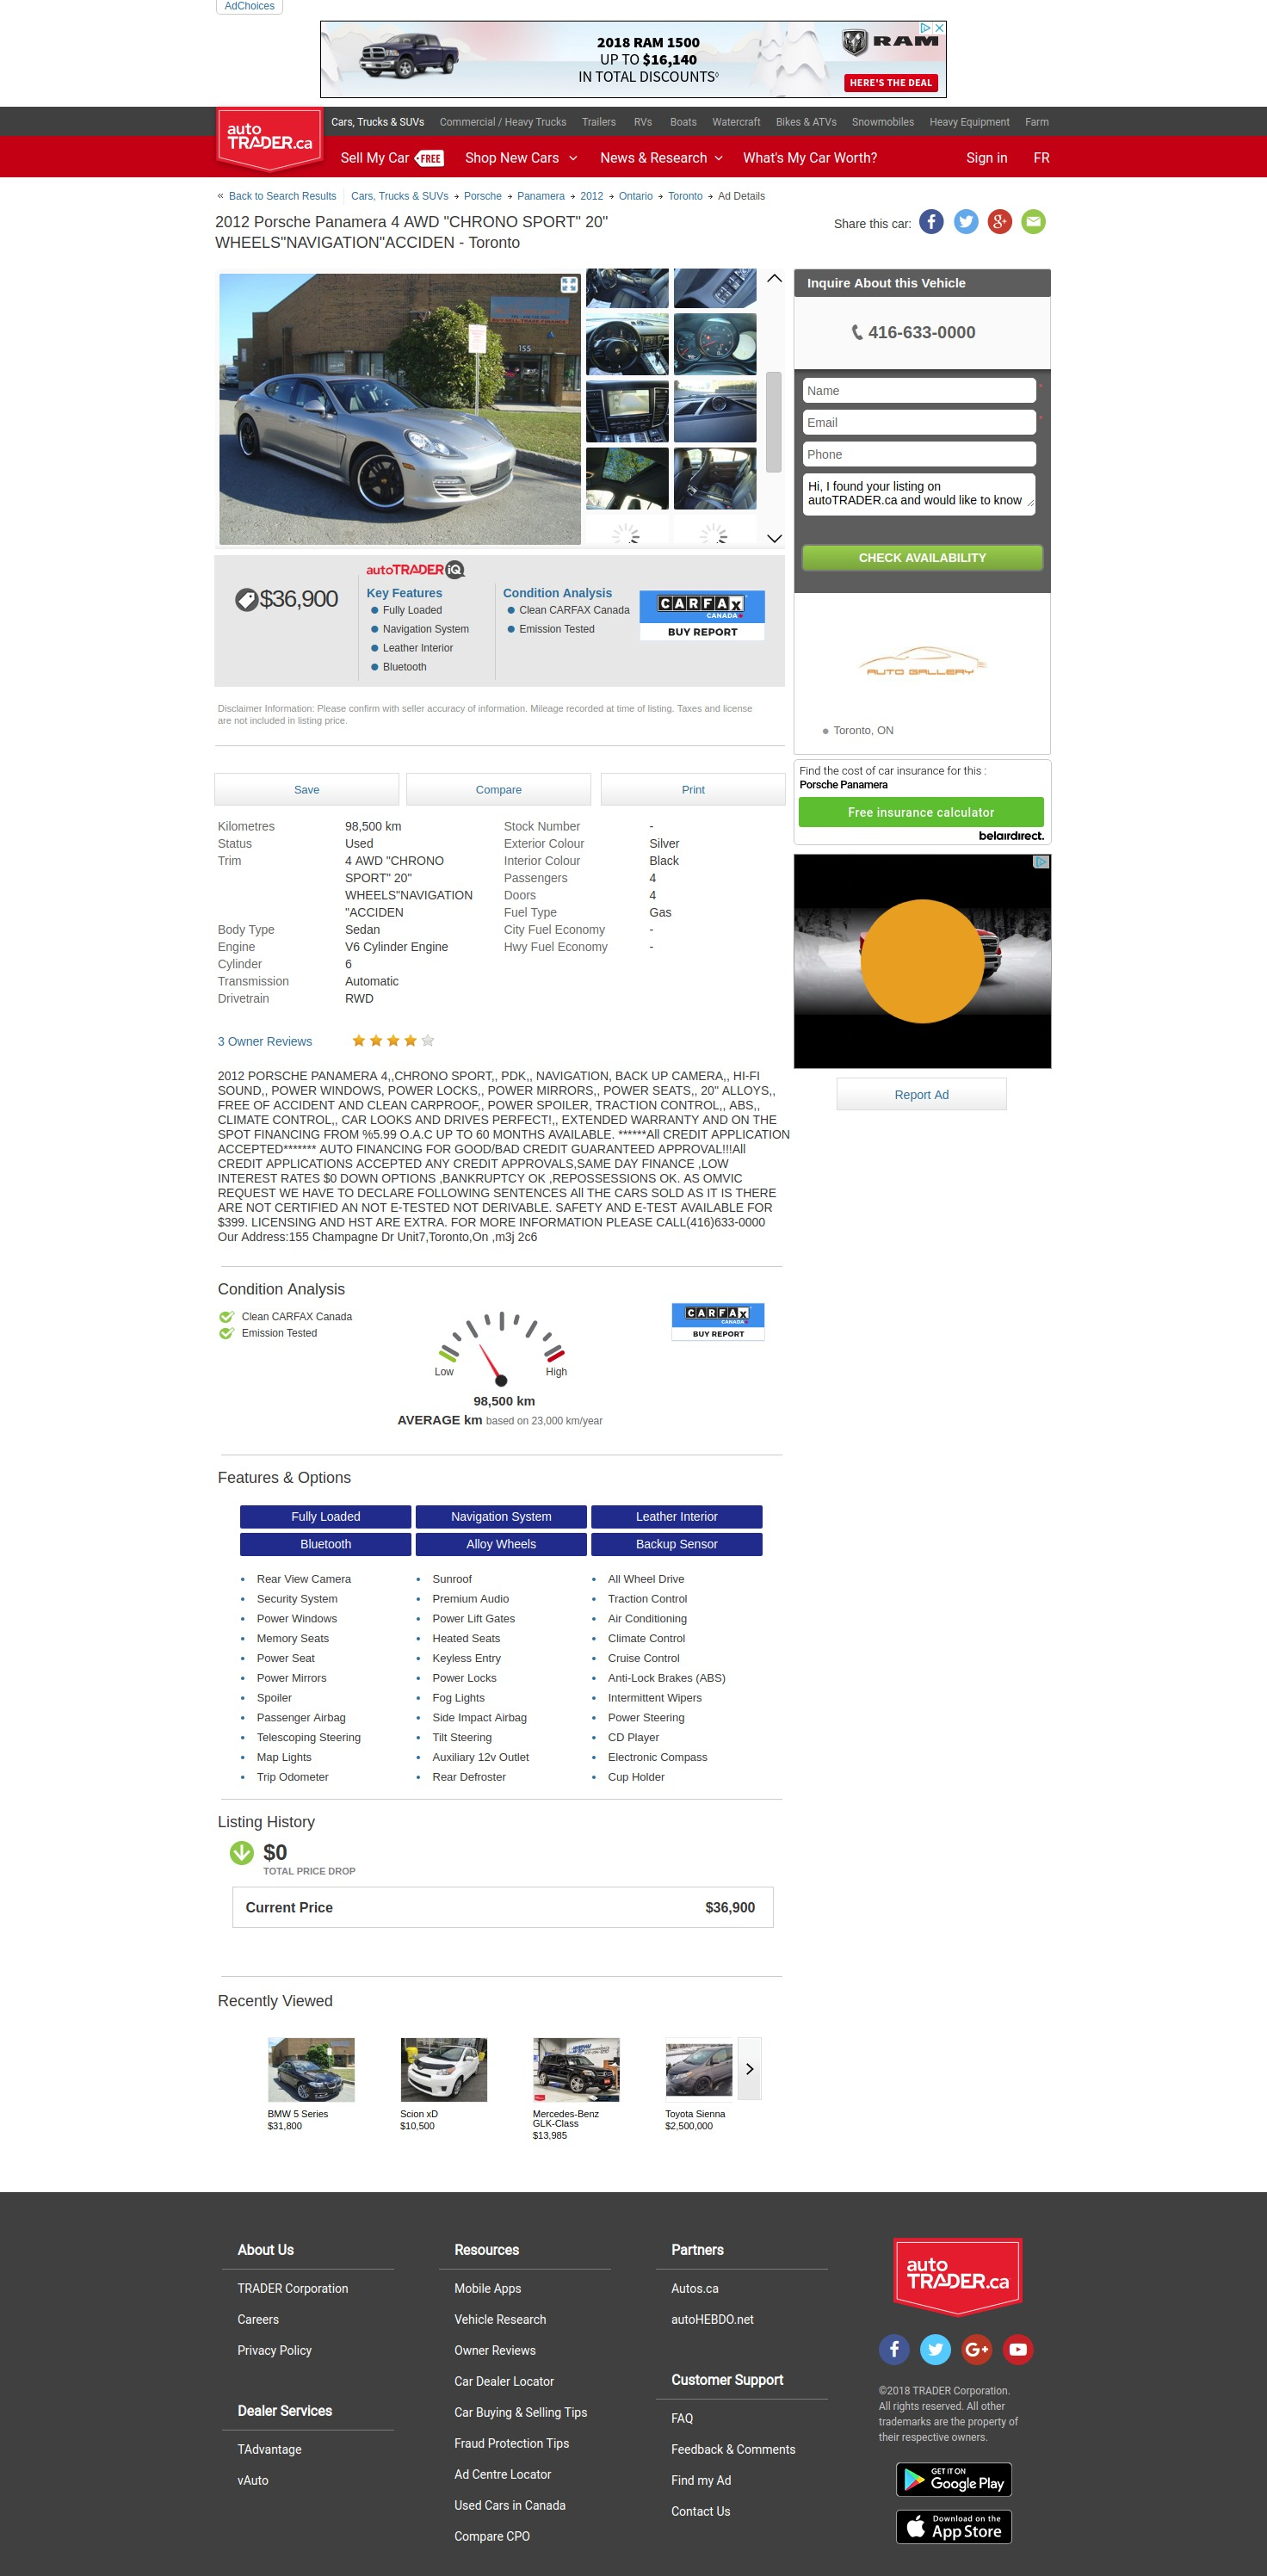car: (766, 534, 784, 545)
